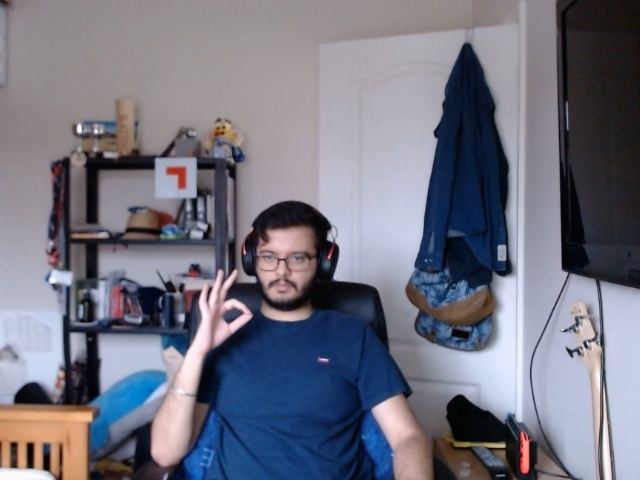Okay: (181, 265, 258, 367)
